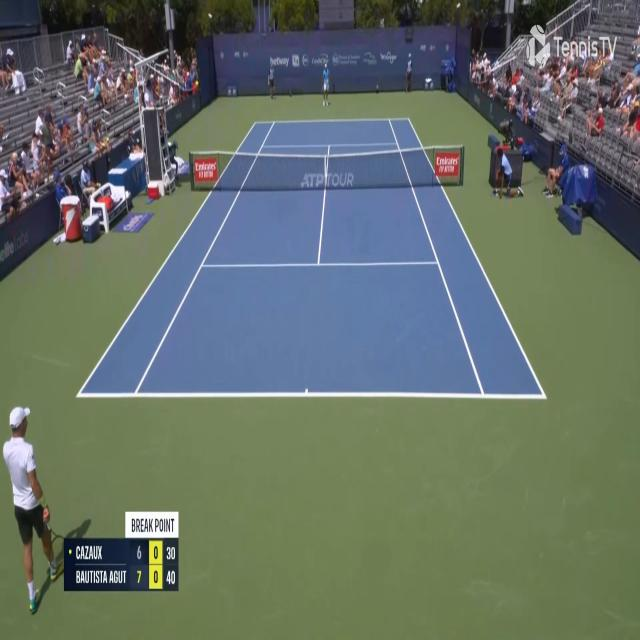tennis-player: (6, 400, 64, 619), (320, 61, 332, 108)
